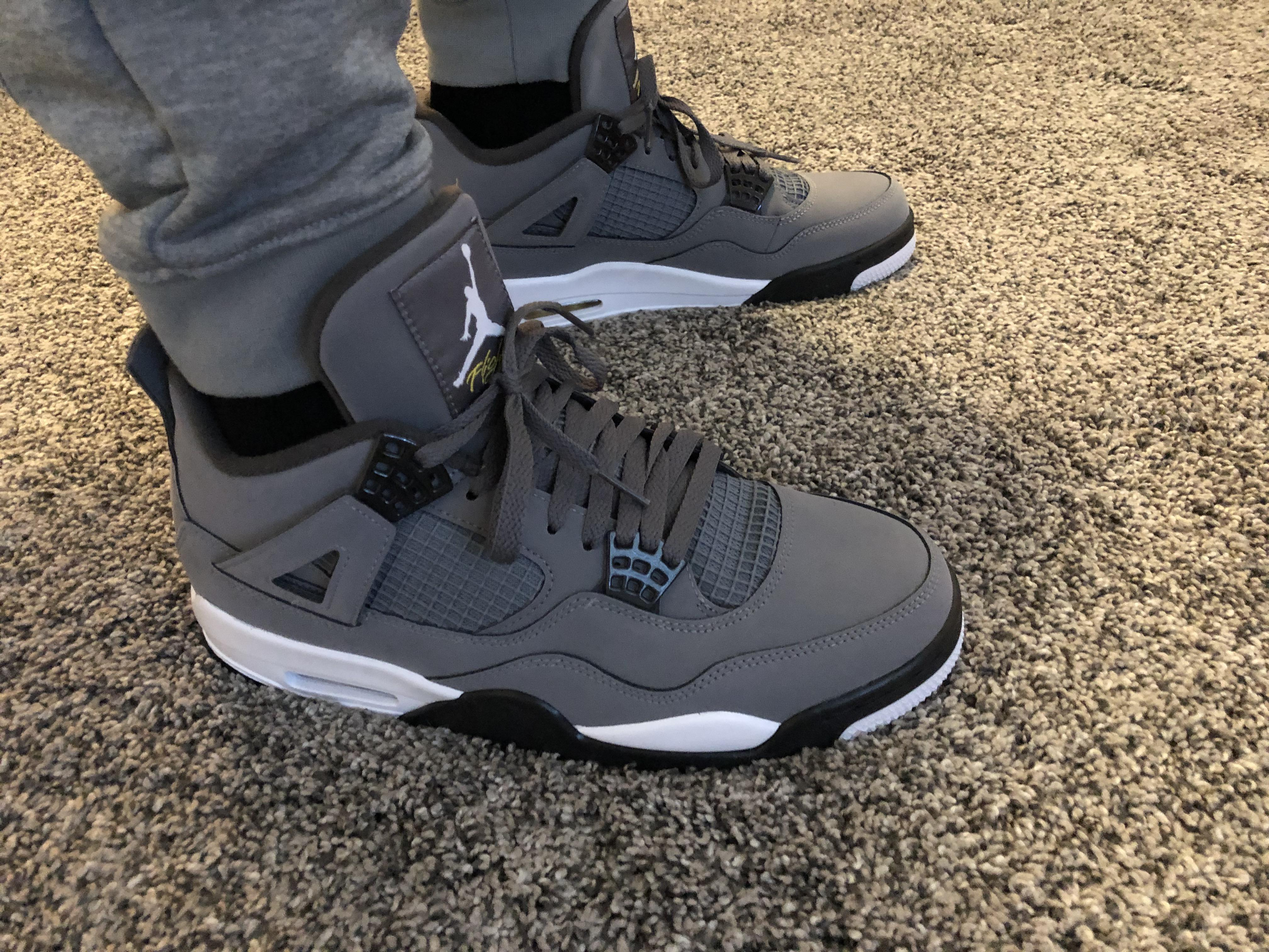sneaker: (99, 167, 1045, 796), (344, 0, 938, 345)
